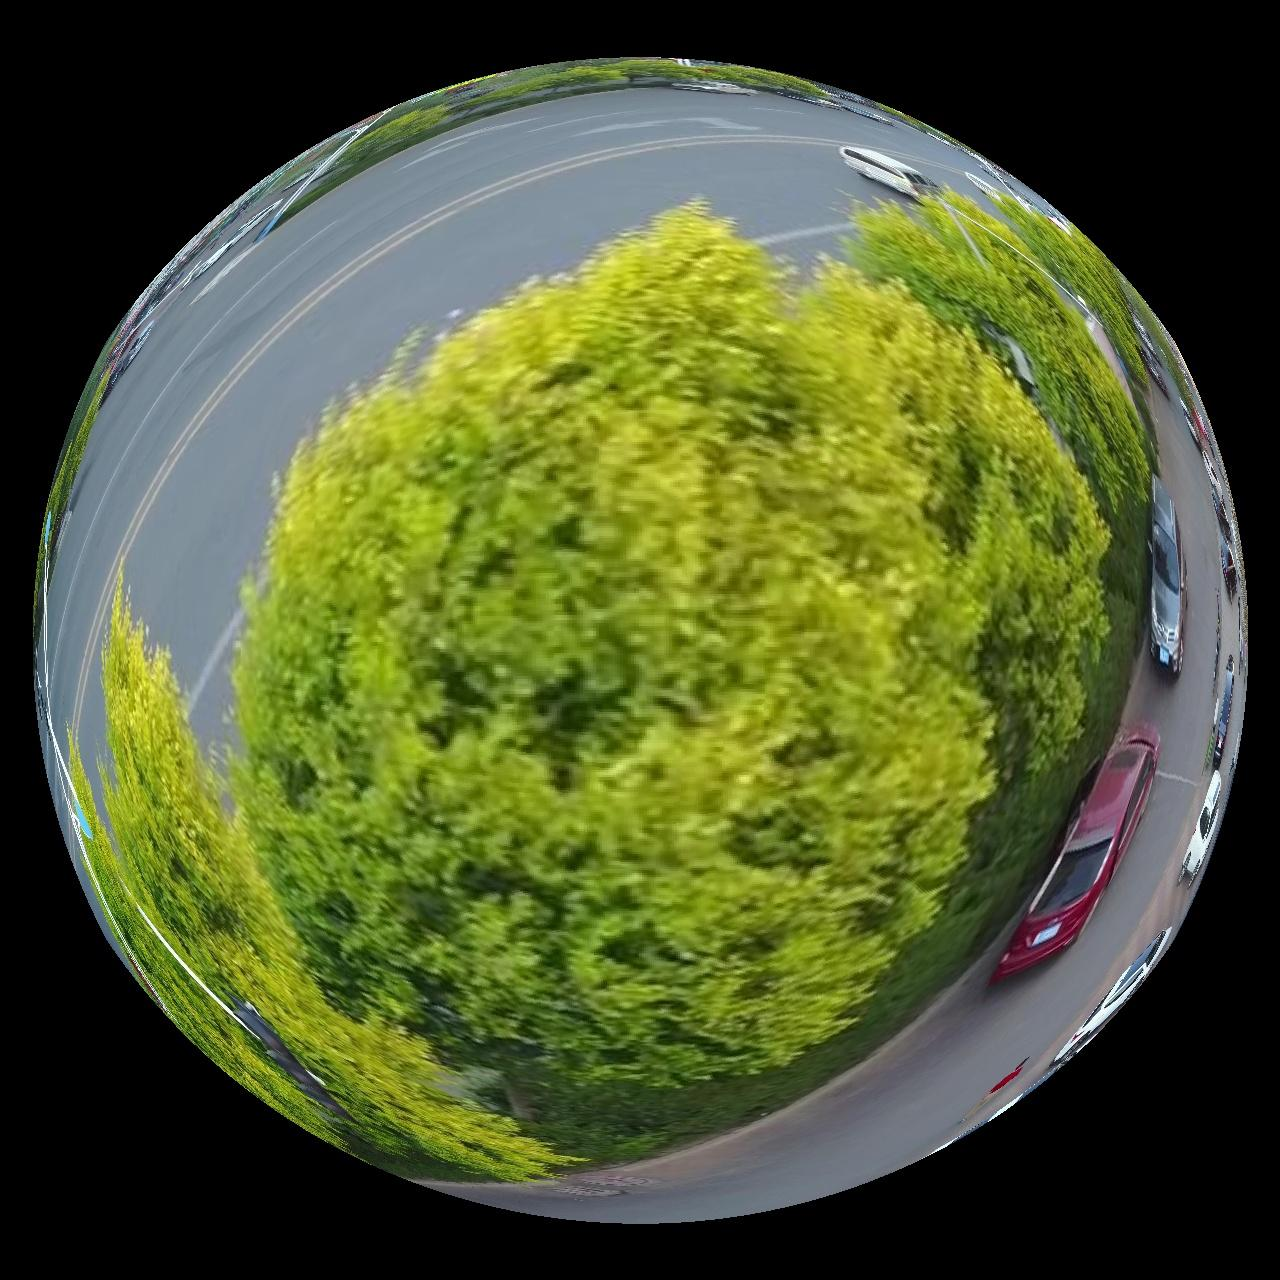cars: (993, 728, 1161, 986), (1151, 476, 1188, 676), (841, 144, 940, 196), (1182, 772, 1225, 886)
trees: (64, 189, 1155, 1182)
